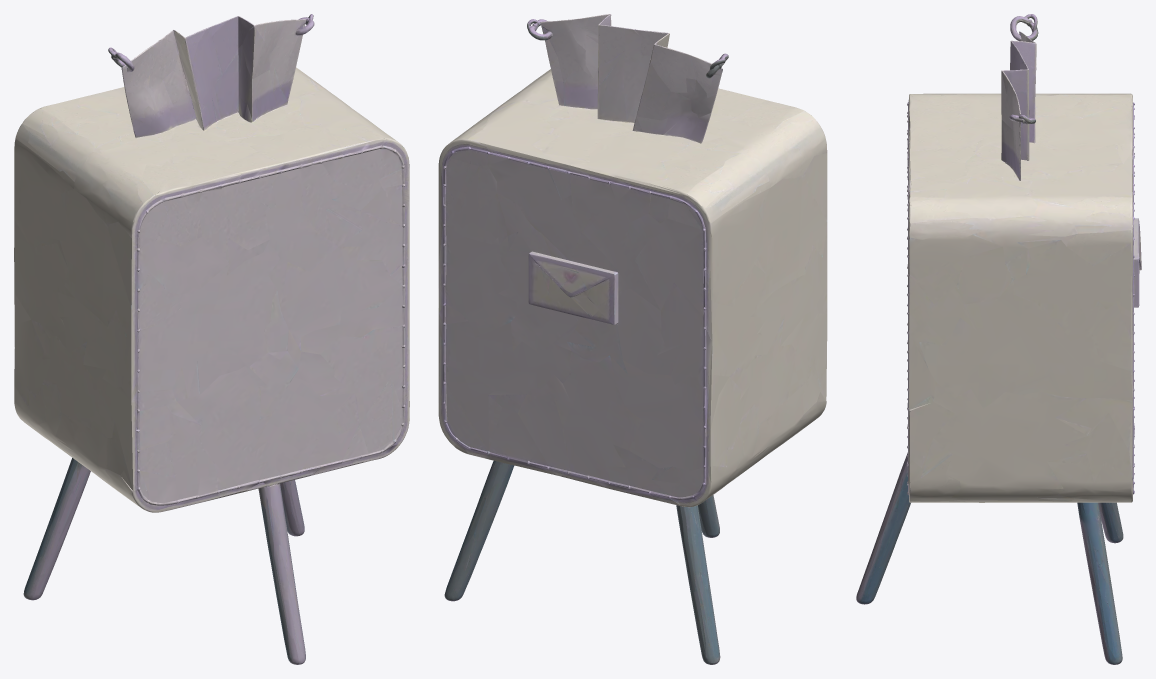
The model's file is prediction-board.gltf.
The picture shows the model from 3 angles, left to right: view 1: azimuth 30°, elevation 25°; view 2: azimuth 150°, elevation 25°; view 3: azimuth 270°, elevation 25°; orthographic projection. The views are drawn at different scales.
Size of the model in its own units: 0.9683 by 1.9 by 0.9013.
Materials: 1 (1 with a texture image).
